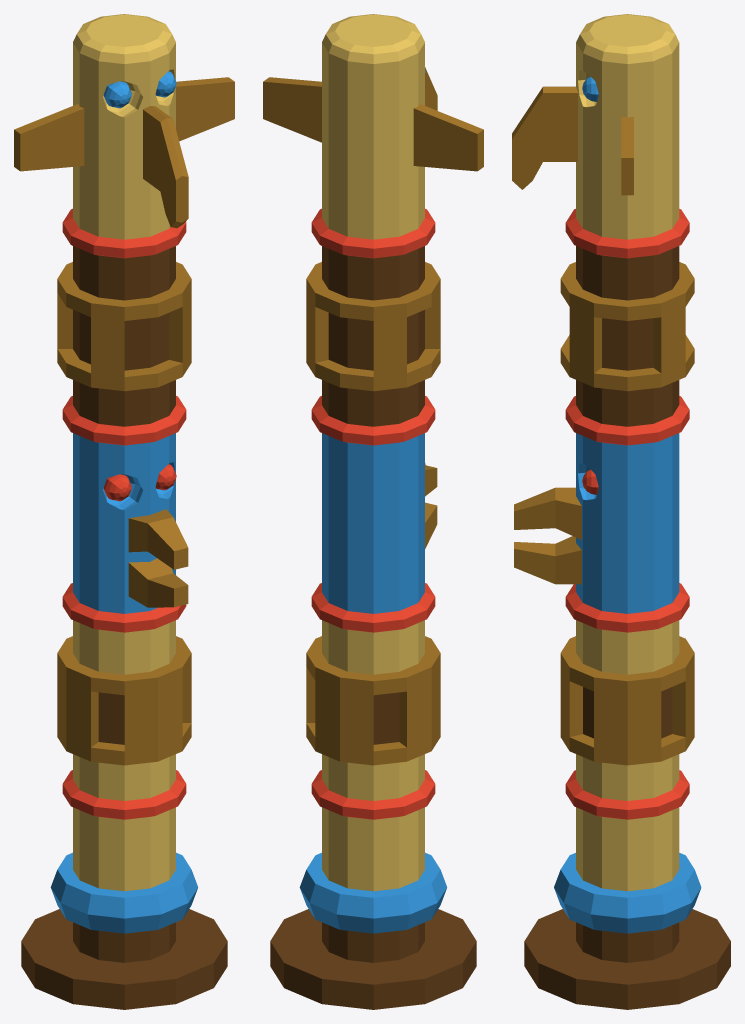
File: Totem Pole.fbx
3 renders of one model, left to right at view 1: azimuth 30°, elevation 25°; view 2: azimuth 150°, elevation 25°; view 3: azimuth 270°, elevation 25°, orthographic.
Parts seen in each view (by area): view 1: Totem Pole; view 2: Totem Pole; view 3: Totem Pole.
Part boxes in pixels (left/top/right/bottom): Totem Pole: left=14, top=14, right=234, bottom=1009; Totem Pole: left=263, top=14, right=483, bottom=1009; Totem Pole: left=512, top=14, right=730, bottom=1009.
Size of the model in its own units: 24 by 100 by 21.2.
